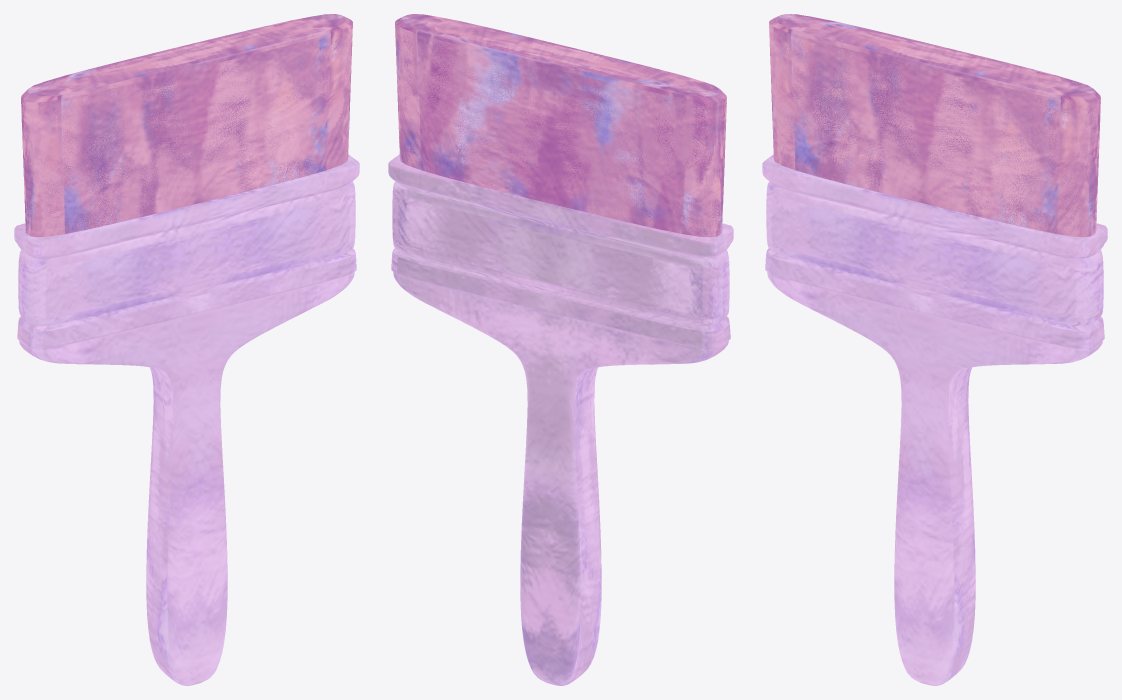
The model's file is Brush.fbx.
3 renders of one model, left to right at view 1: azimuth 30°, elevation 25°; view 2: azimuth 150°, elevation 25°; view 3: azimuth 330°, elevation 25°, orthographic.
Visible parts, largest first — view 1: Brush #2.001; view 2: Brush #2.001; view 3: Brush #2.001.
Part boxes in pixels (x1=…): Brush #2.001: x1=14, y1=14, x2=359, y2=685; Brush #2.001: x1=388, y1=14, x2=733, y2=685; Brush #2.001: x1=762, y1=14, x2=1107, y2=685.
Size of the model in its own units: 0.2454 by 0.0331 by 0.4464.
